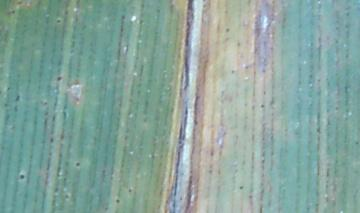tarspot: (5, 9, 18, 17), (54, 16, 63, 25), (237, 183, 246, 192), (230, 67, 238, 77), (55, 74, 64, 82), (259, 102, 267, 111), (234, 39, 242, 48), (62, 193, 71, 201), (13, 94, 22, 101), (127, 186, 134, 195), (18, 173, 26, 180), (75, 160, 82, 168), (15, 1, 24, 7), (114, 197, 121, 204), (224, 26, 230, 34), (354, 139, 360, 147)
